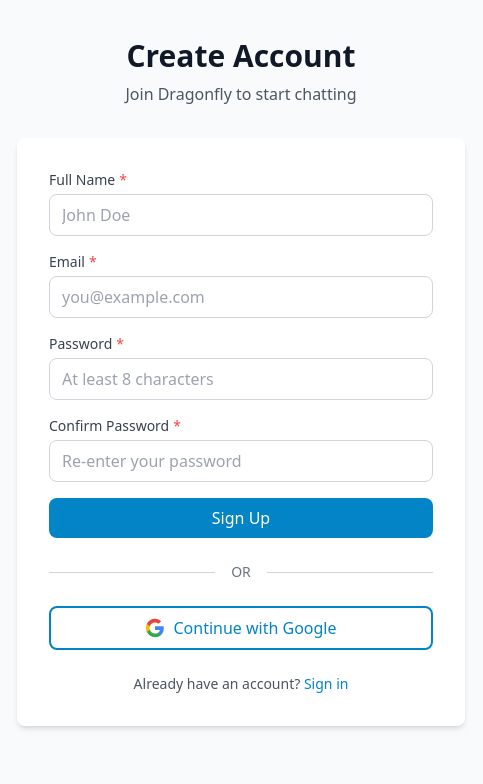
SignUp page › validates password mismatch
Type "Jane Doe" into the field with placeholder "John Doe" at [241, 215], box [49,194,433,236]
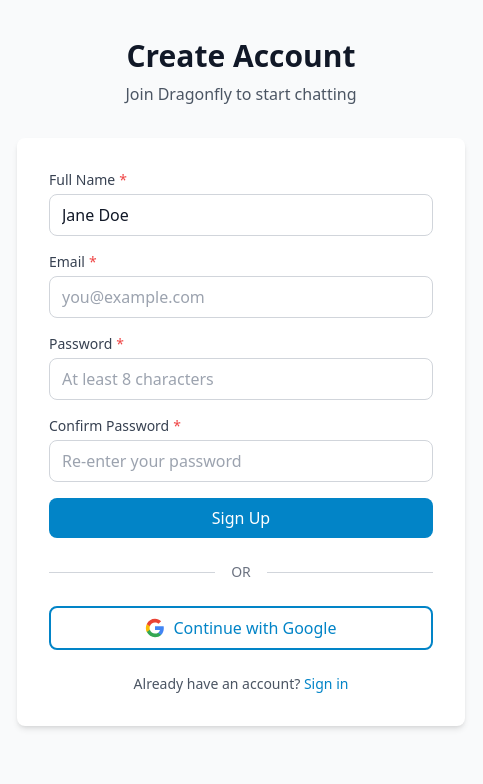
Type "jane@example.com" into the field with placeholder "you@example.com" at [241, 297], box [49,276,433,318]
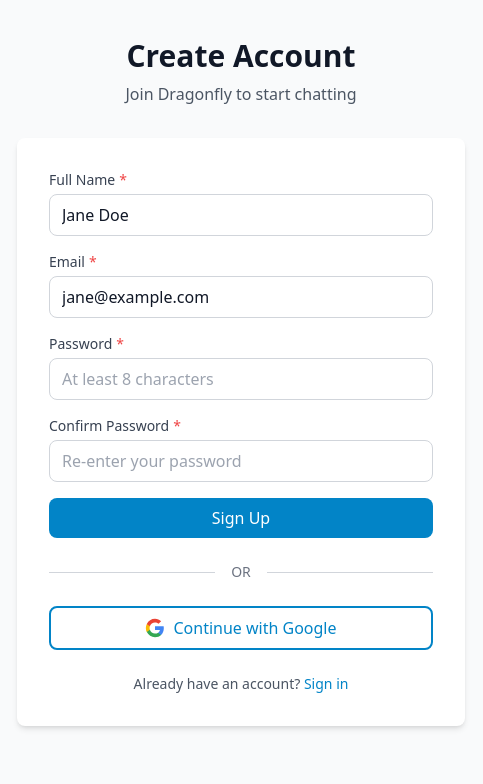
Type "password123" into the password field with placeholder "At least 8 characters" at [241, 379], box [49,358,433,400]
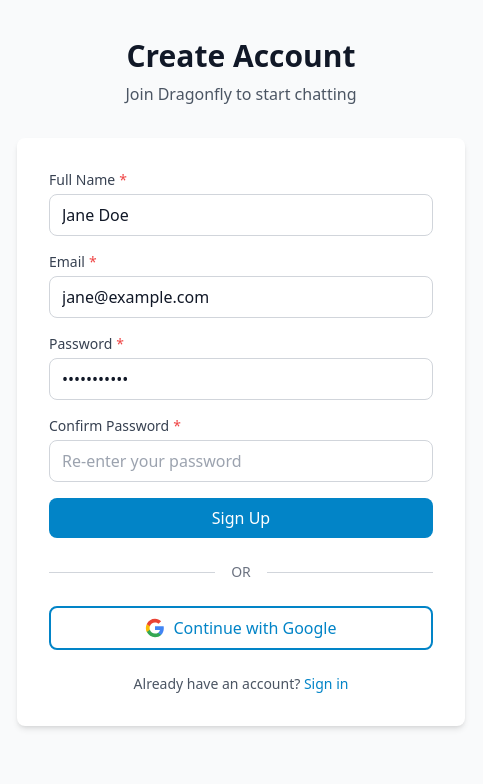
Type "mismatch123" into the password field with placeholder "Re-enter your password" at [241, 461], box [49,440,433,482]
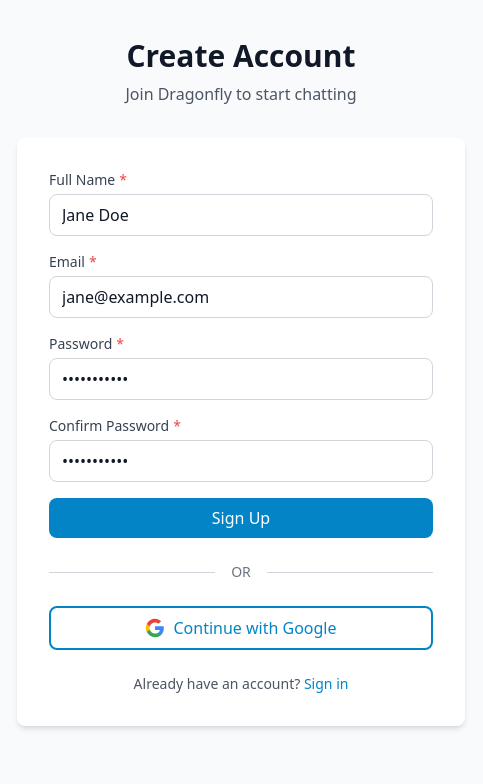
Click the button "Sign Up" at [241, 518], box [49,498,433,538]
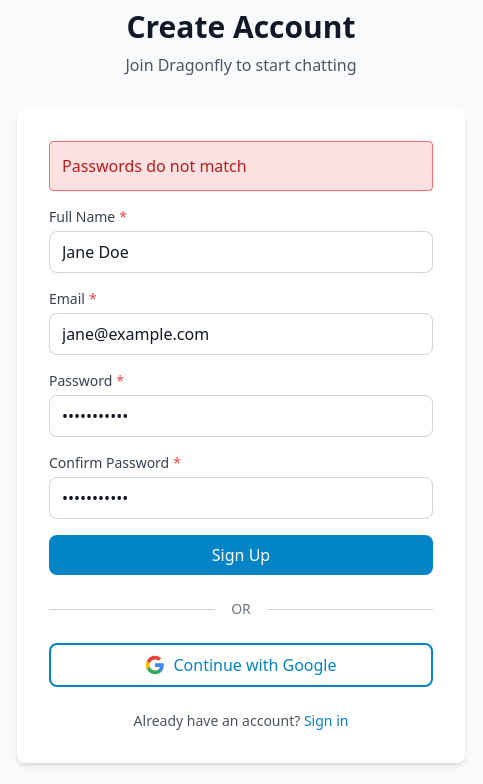
Result: the text "Passwords do not match" is shown at [49,141,433,191]
